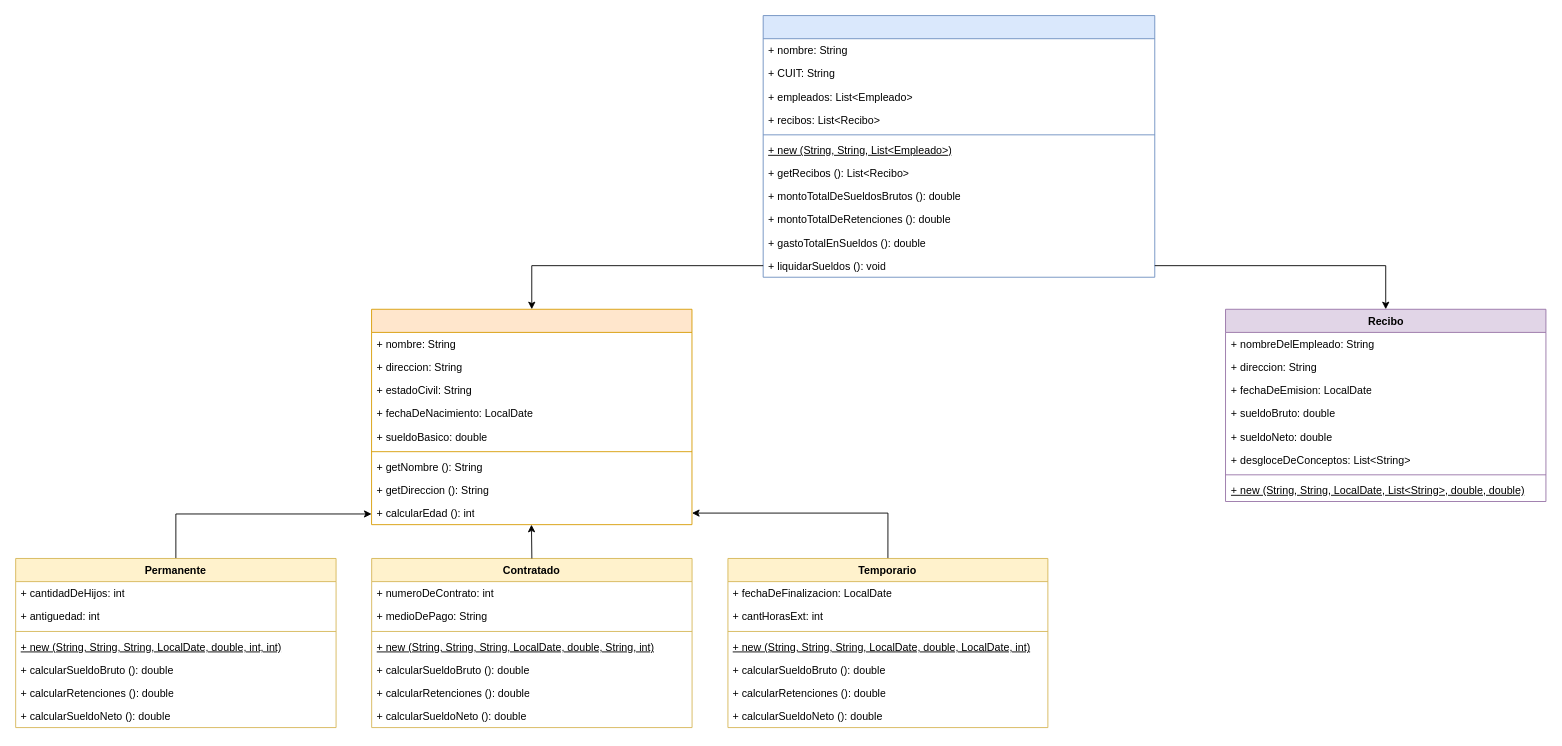
Image size: 1562x746. Some labels were removed from this diagram. The shapes that lost their labels are listed below. From the top down, each one's box as (x1, y1, x2, y2) in pixels, then its label:
(762, 15, 1155, 277): Empresa
(371, 308, 692, 525): Empleado
